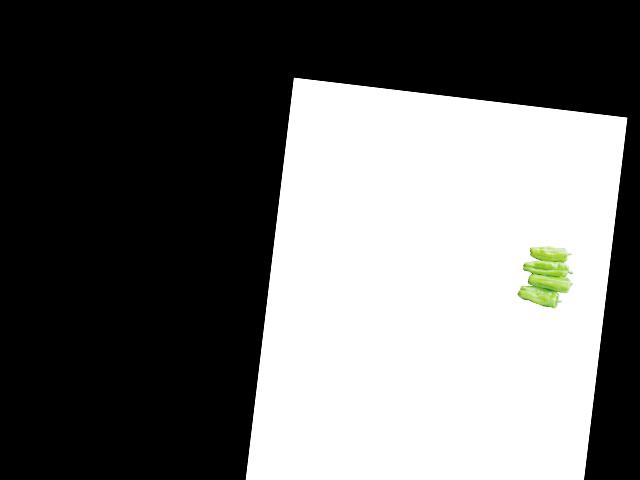bell_pepper: (512, 284, 565, 309)
